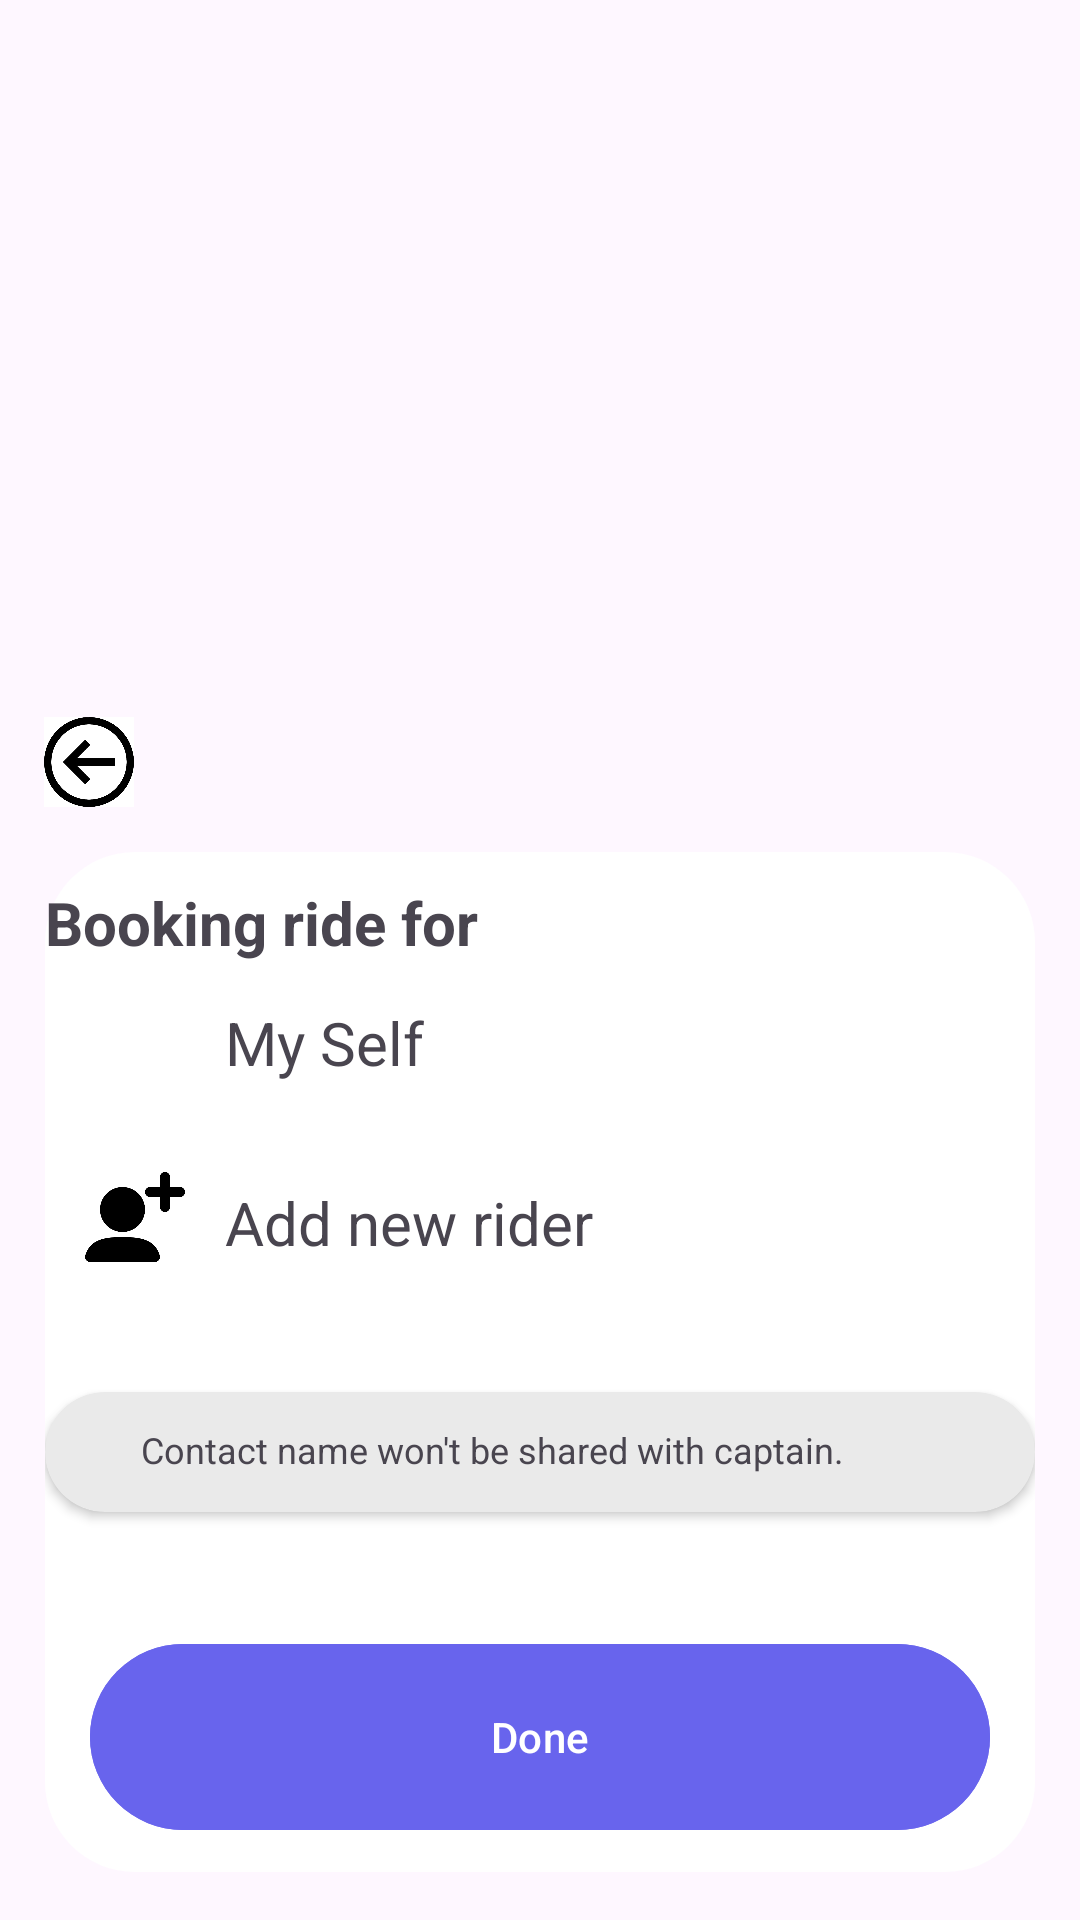

Named icons in this screenshot (1080px×1920px) and their centers, (x=x, y=y):
arrow: (x=89, y=762)
